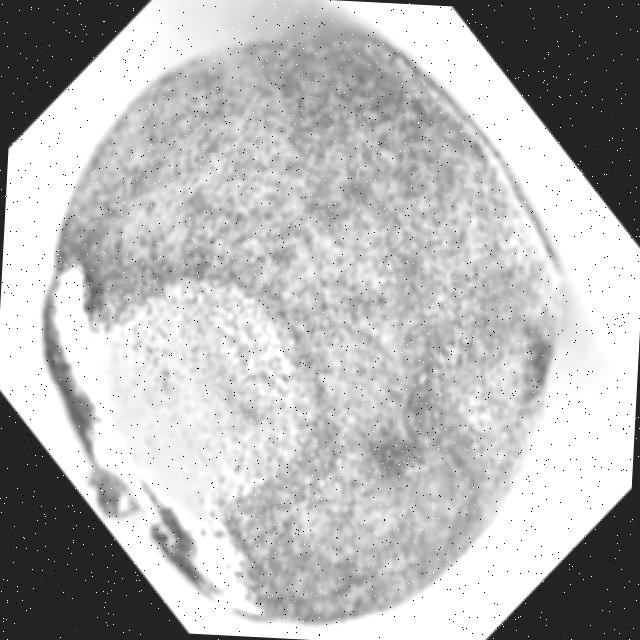Rotten: (24, 19, 575, 640)
